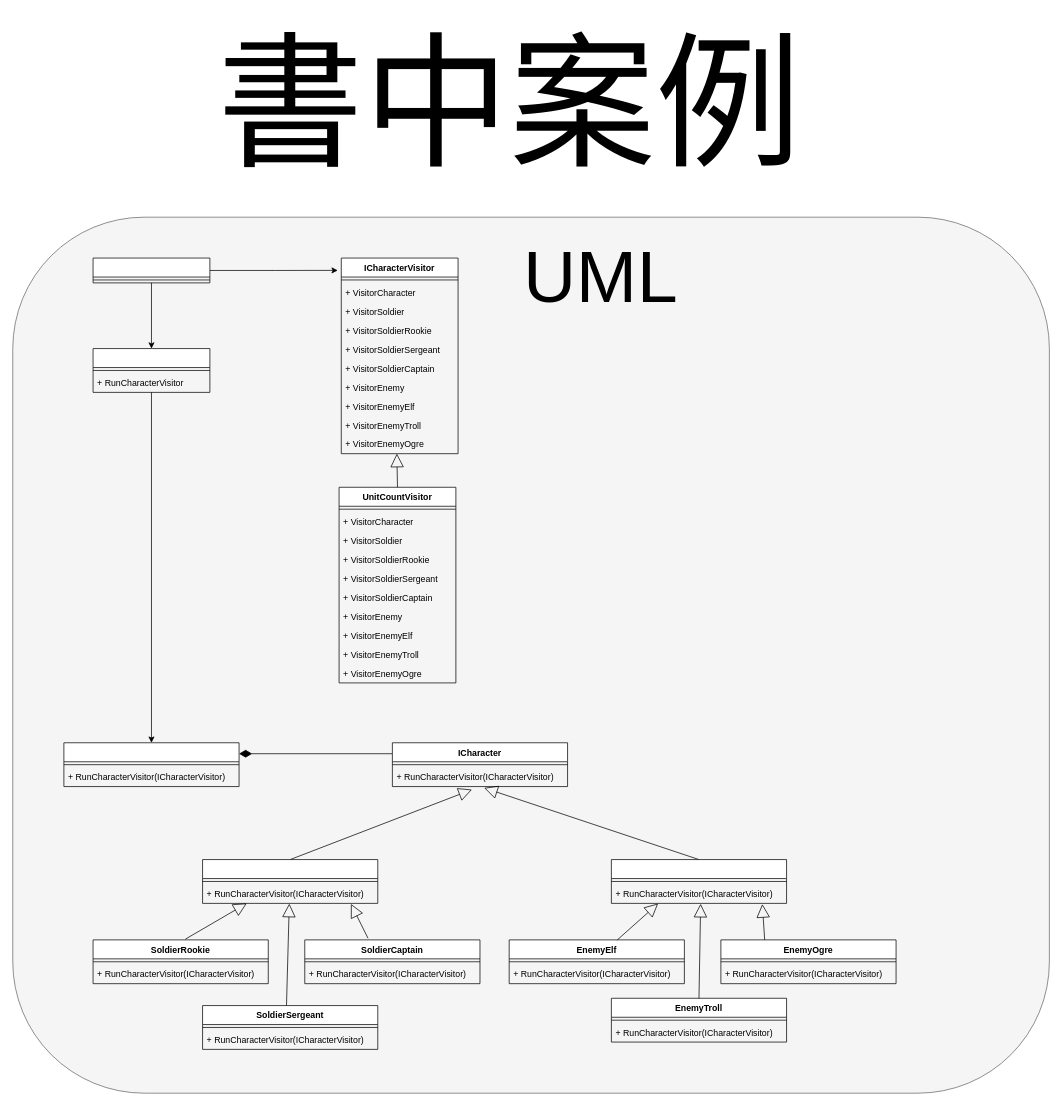
Image size: 1062x1106. Some labels were removed from this diagram. Each missing label, with the box of its shape:
CharacterSystem: (63, 742, 239, 787)
Client: (92, 257, 210, 283)
IEnemy: (611, 859, 787, 903)
ISoldier: (202, 859, 378, 903)
PBaseDefenseGame: (92, 348, 210, 392)
